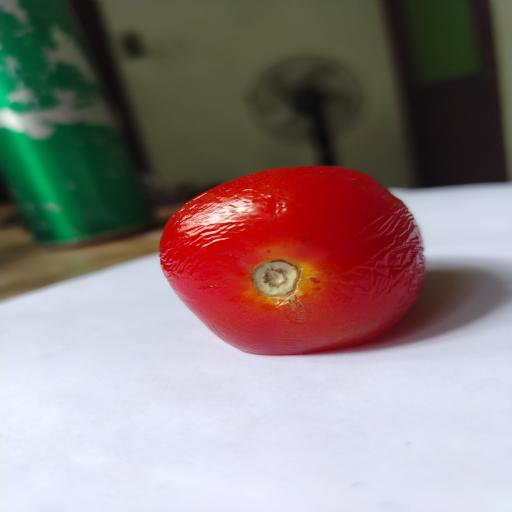spoiled: (160, 167, 424, 355)
